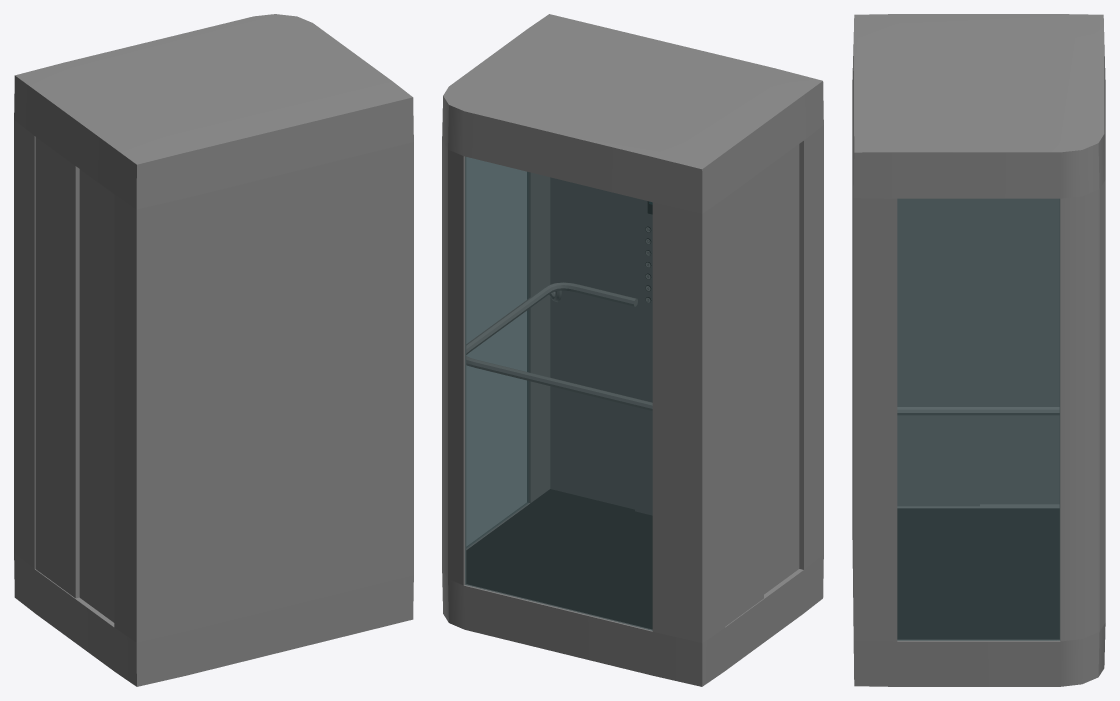
Rendered from Elevador.fbx.
3 views of the same model, side by side, from view 1: azimuth 30°, elevation 25°; view 2: azimuth 150°, elevation 25°; view 3: azimuth 270°, elevation 25° (orthographic). The views are drawn at different scales.
Visible parts, largest first — view 1: Elevator_Box, Door_02, Door_01; view 2: Elevator_Box, Glass_00, Glass_01, Door_02, Door_01, Pannel, Bar_Handle; view 3: Elevator_Box, Glass_01, Door_01, Door_02, Bar_Handle.
Part boxes in pixels (box(x1,y1,x2,y2)): Elevator_Box: box(14, 14, 413, 686); Door_02: box(35, 137, 79, 598); Door_01: box(79, 169, 114, 622); Elevator_Box: box(442, 14, 823, 686); Glass_00: box(465, 156, 652, 630); Glass_01: box(466, 157, 528, 547); Door_02: box(725, 170, 763, 626); Door_01: box(764, 144, 799, 594); Pannel: box(635, 198, 652, 515); Bar_Handle: box(466, 282, 652, 410); Elevator_Box: box(852, 14, 1105, 686); Glass_01: box(897, 198, 1059, 640); Door_01: box(897, 199, 979, 505); Door_02: box(980, 199, 1059, 503); Bar_Handle: box(897, 407, 1059, 414).
Size of the model in its own units: 6.67 by 11.98 by 5.12.
